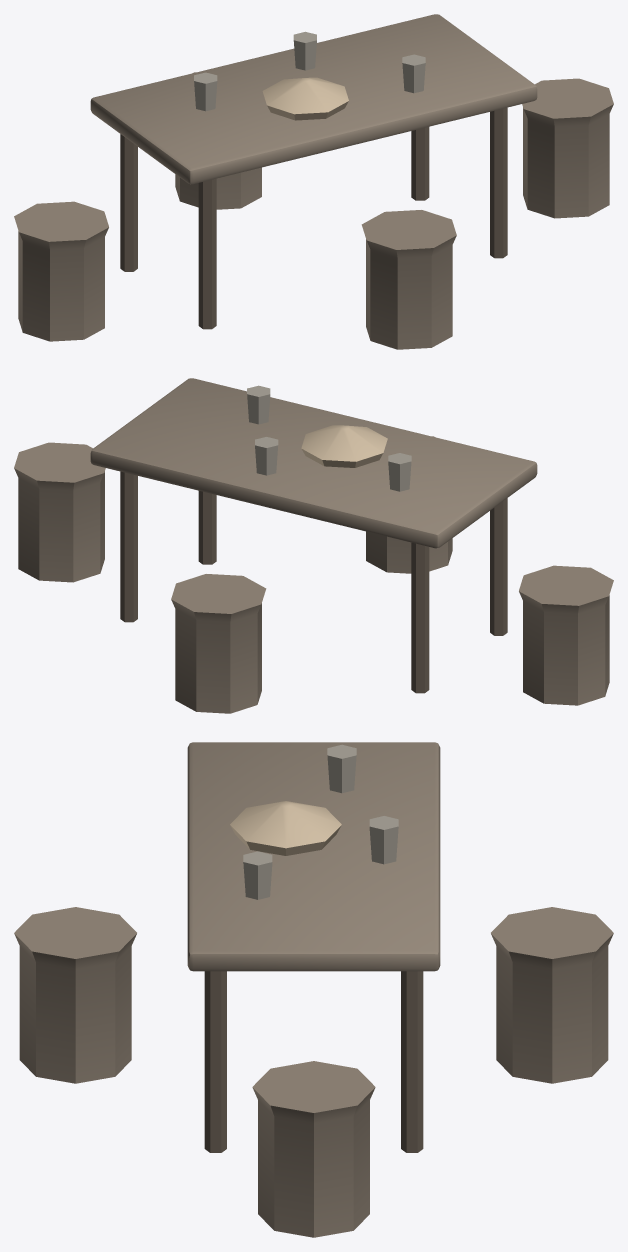
The model's file is table.gltf.
3 renders of one model, top to bottom at view 1: azimuth 30°, elevation 25°; view 2: azimuth 150°, elevation 25°; view 3: azimuth 270°, elevation 25°, orthographic. The views are drawn at different scales.
Visible parts, largest first — view 1: Body; view 2: Body; view 3: Body.
Part boxes in pixels (x1=…): Body: x1=14, y1=14, x2=613, y2=349; Body: x1=14, y1=378, x2=613, y2=713; Body: x1=14, y1=742, x2=613, y2=1237.
Bounding box in the file's own units: 3.04 × 0.98 × 2.14.
